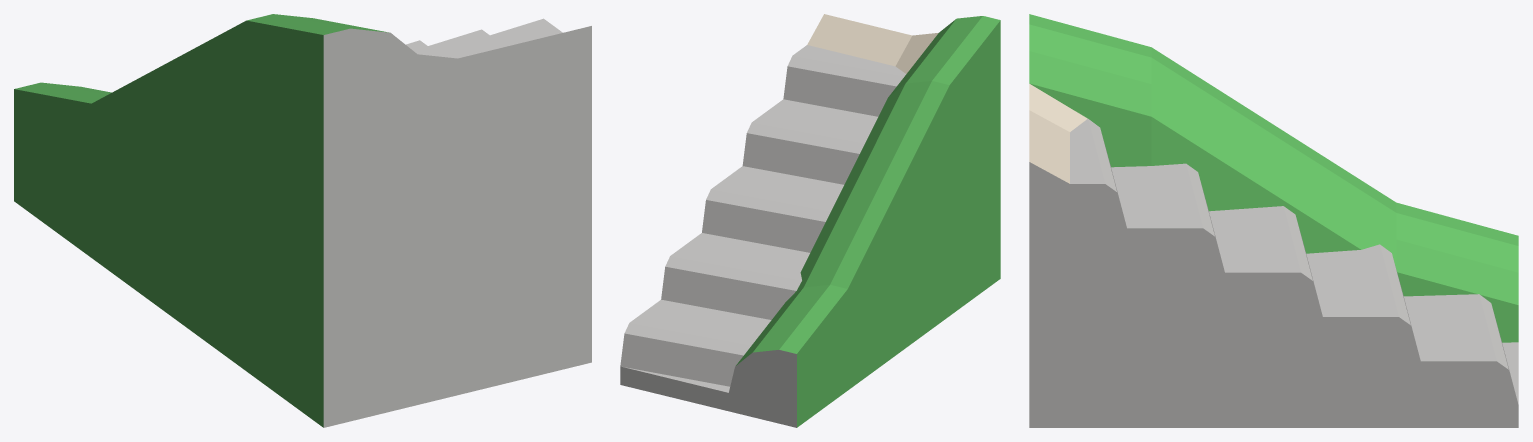
Rendered from Path_Steps_Grass_Edge_Top.glb.
The picture shows the model from 3 angles, left to right: view 1: azimuth 30°, elevation 25°; view 2: azimuth 150°, elevation 25°; view 3: azimuth 270°, elevation 25°; orthographic projection. The views are drawn at different scales.
Parts seen in each view (by area): view 1: object1; view 2: object1; view 3: object1.
Part boxes in pixels (x1,y1,x2,y2): object1: (14, 14, 591, 427); object1: (620, 14, 1000, 427); object1: (1029, 14, 1518, 427).
Bounding box in the file's own units: 1 × 1.4 × 2.
